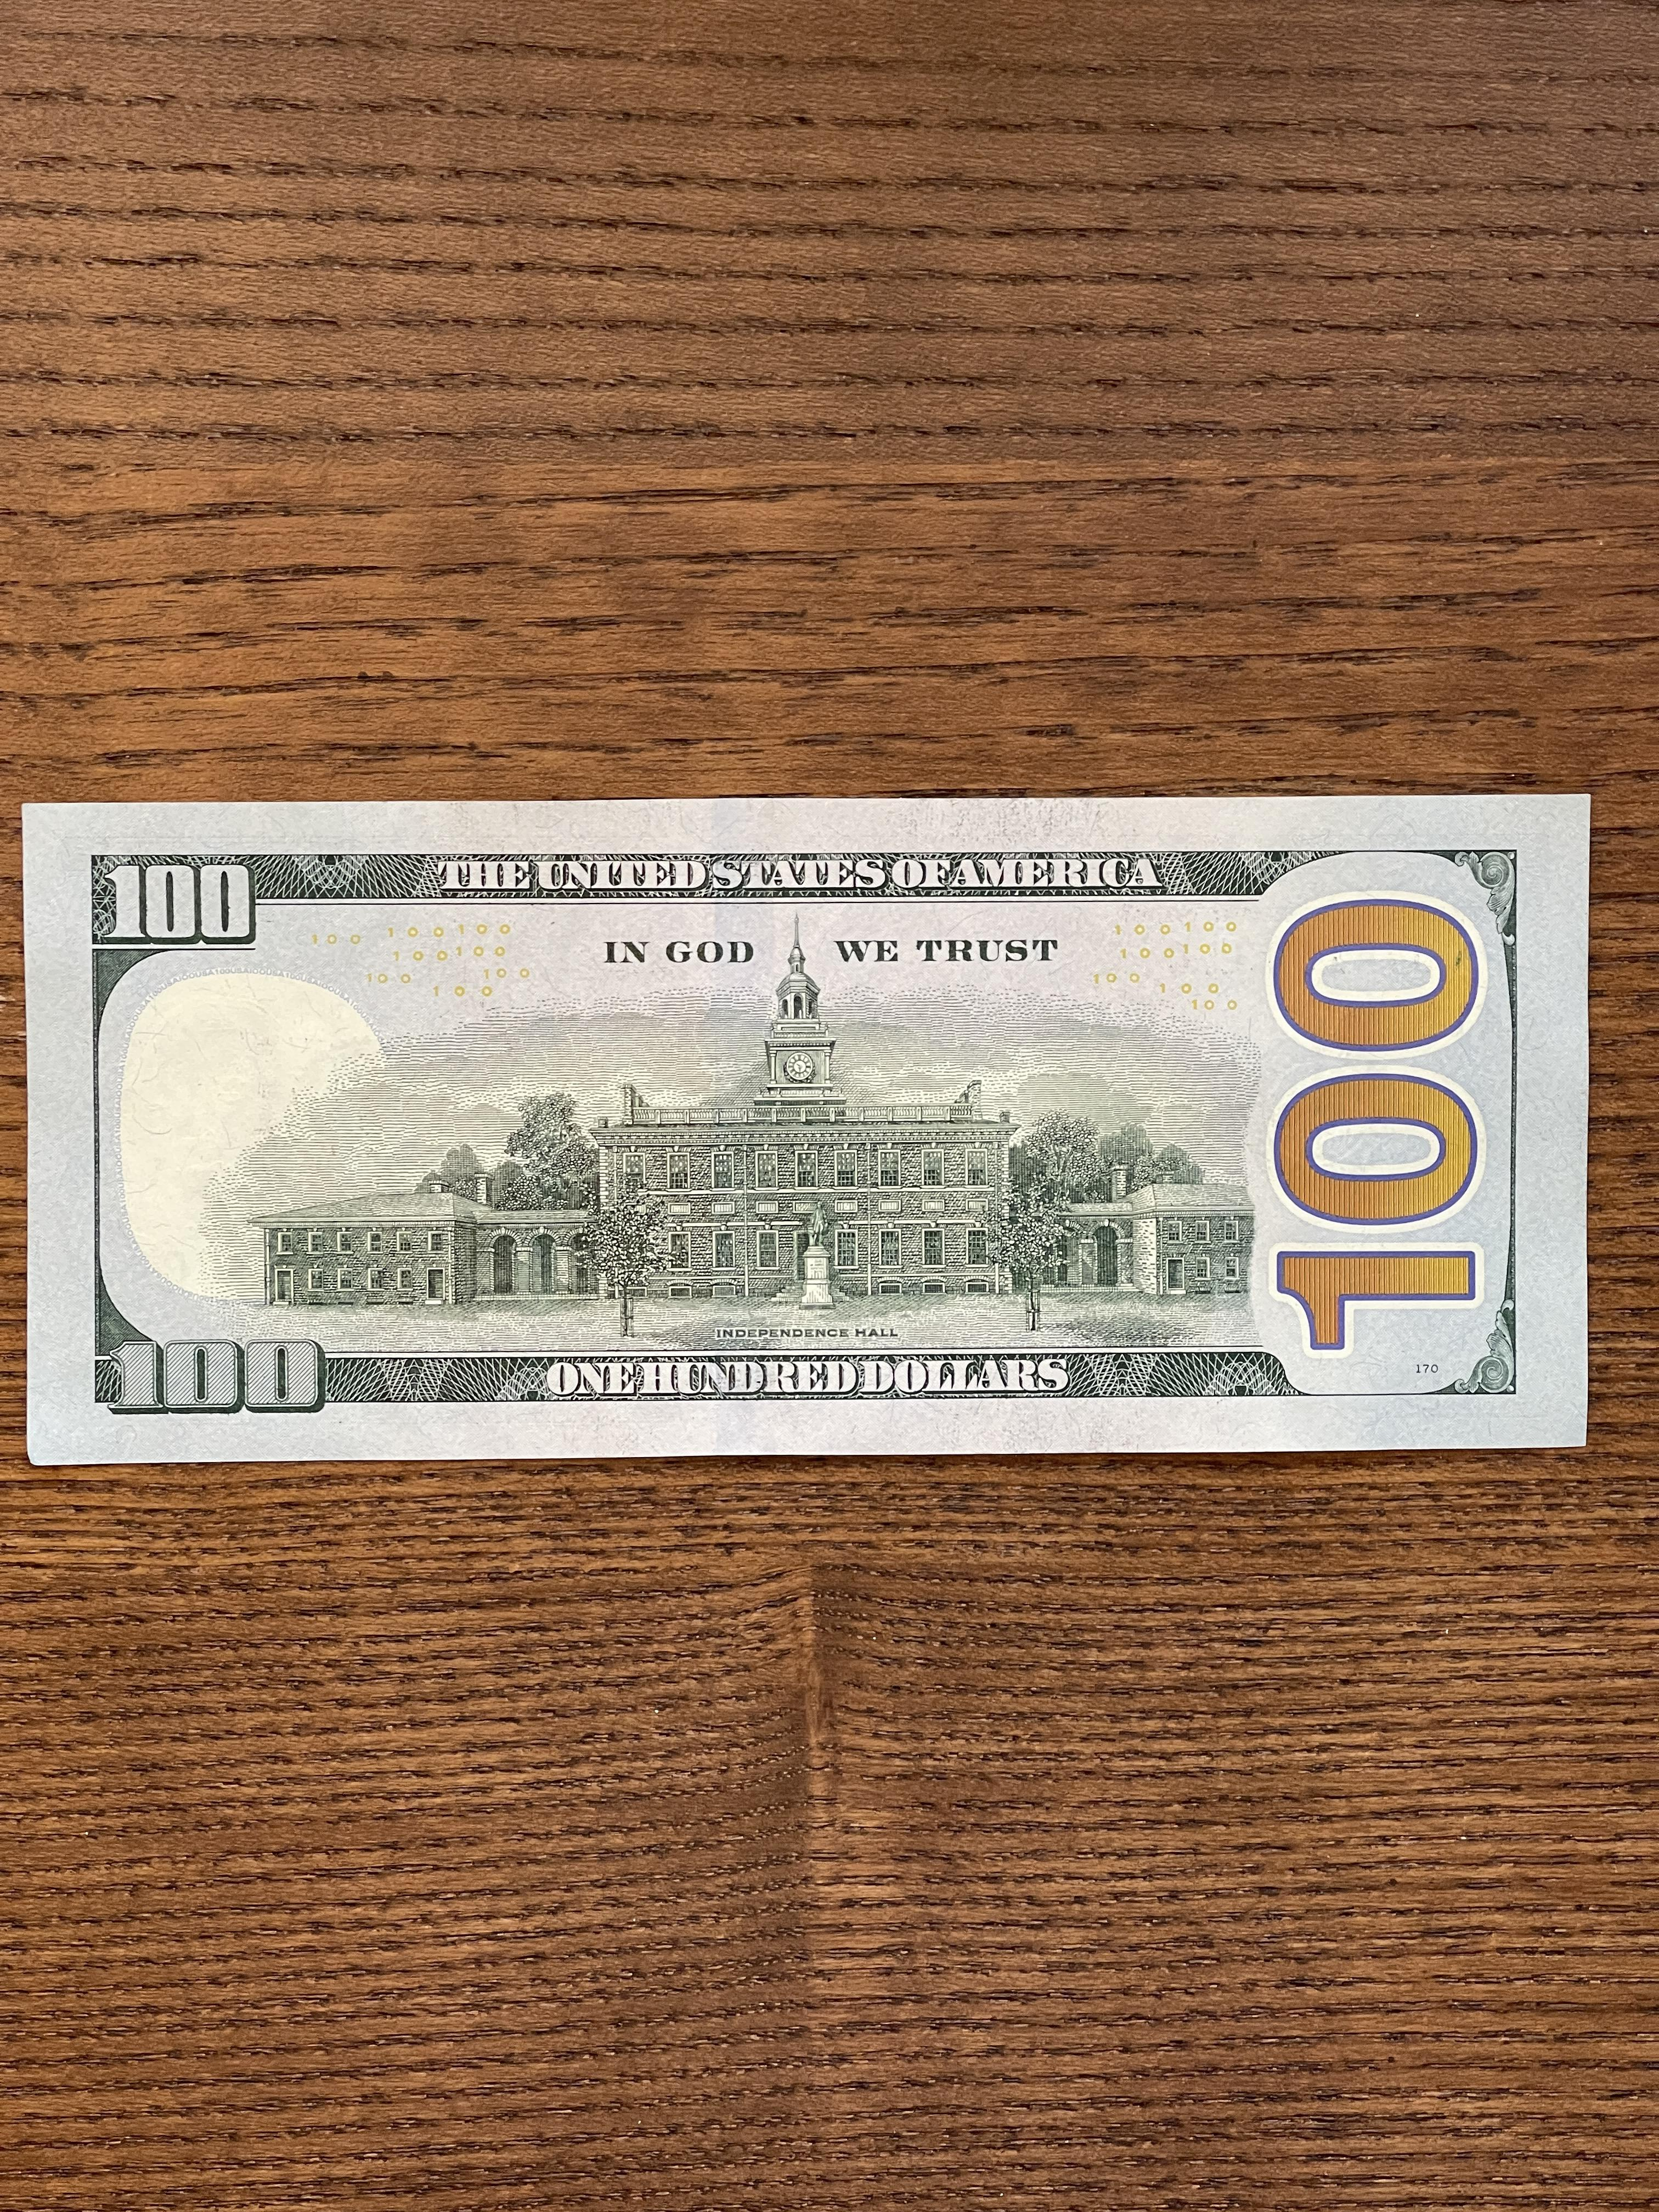HundredBill: (17, 789, 1598, 1475)
